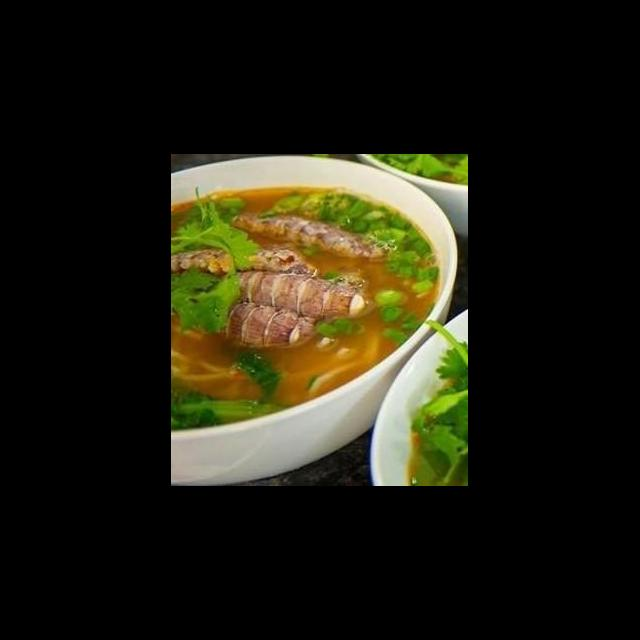tom tit: (206, 267, 370, 322), (227, 207, 396, 260), (172, 239, 324, 282), (204, 298, 318, 351)
